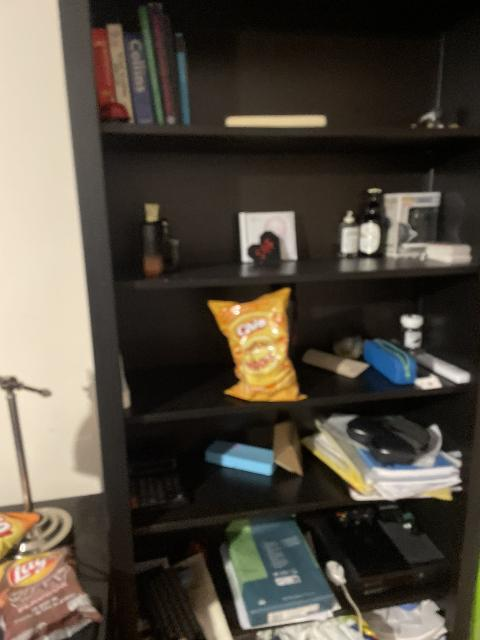Chio Cascaval 125g: (0, 510, 40, 571)
Chio Hula Hoops Cheese 70g: (205, 289, 306, 404)
Lays Beef Grilled Ribs 125g: (1, 547, 103, 639)
